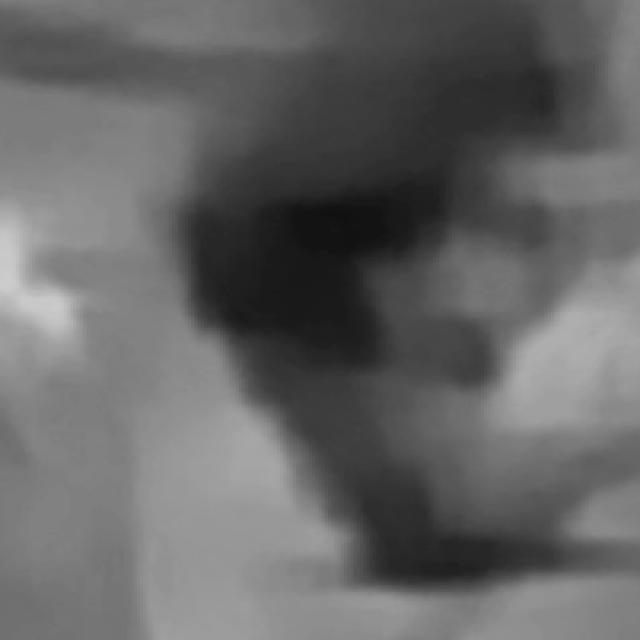Weapon: (152, 16, 600, 609)
